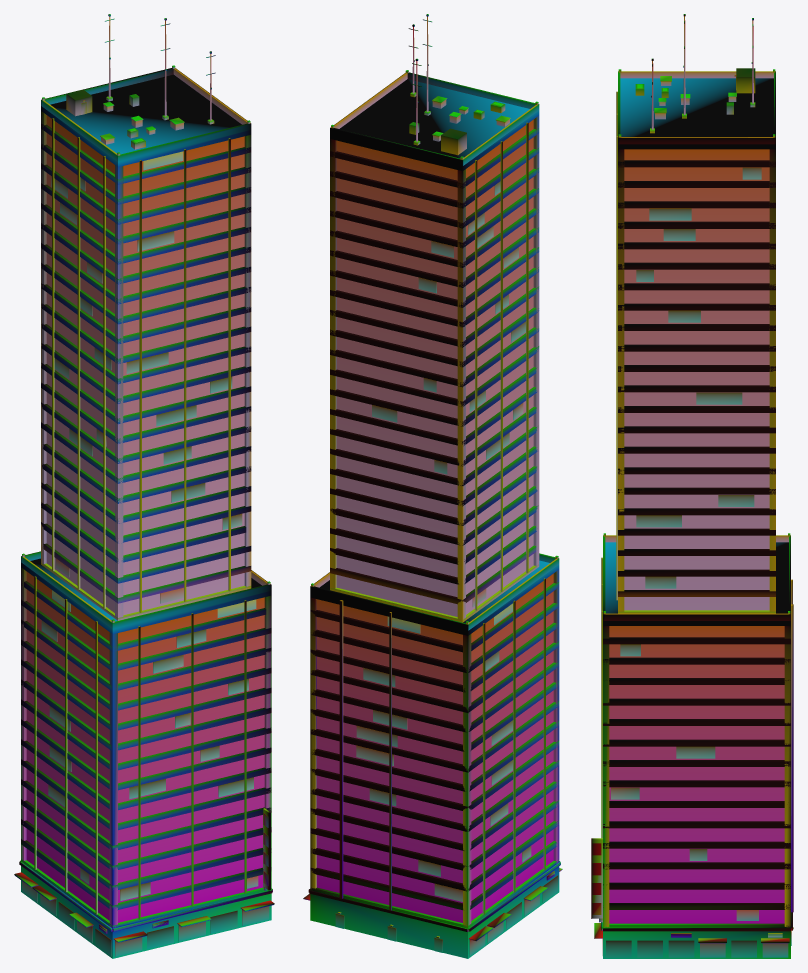
File: Tower_Pad_V9.fbx
3 views of the same model, side by side, from view 1: azimuth 30°, elevation 25°; view 2: azimuth 150°, elevation 25°; view 3: azimuth 270°, elevation 25° (orthographic). The views are drawn at different scales.
Visible parts, largest first — view 1: Tower_Pad_V9_LOD0; view 2: Tower_Pad_V9_LOD0; view 3: Tower_Pad_V9_LOD0.
Part boxes in pixels (x1,y1,x2,y2): Tower_Pad_V9_LOD0: [14, 14, 274, 958]; Tower_Pad_V9_LOD0: [303, 14, 562, 958]; Tower_Pad_V9_LOD0: [591, 14, 793, 958].
Size of what is drawn, in the model's own units: 32.8 by 160 by 32.31.
